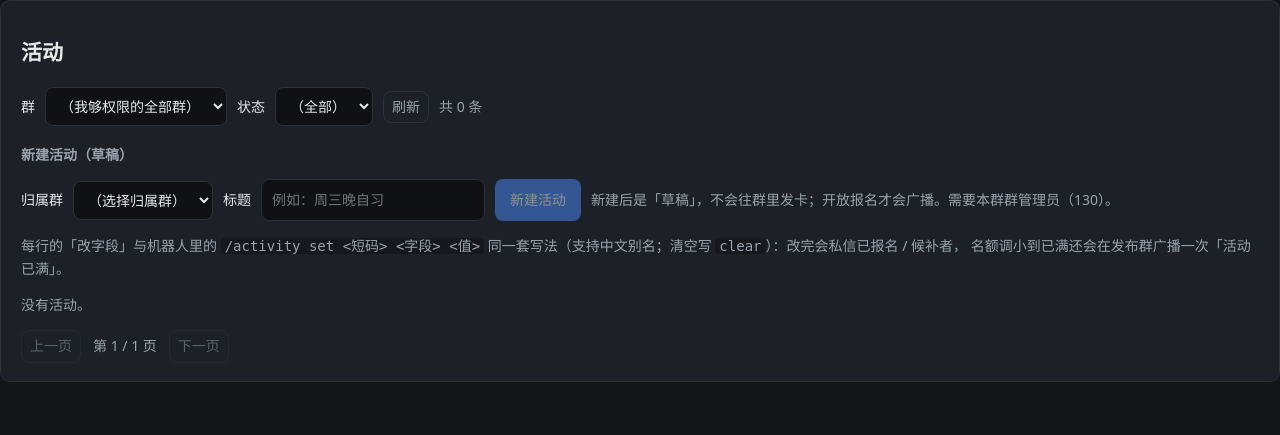
ActivitiesView › 新建活动：标题为空时按钮禁用；点一下发的是草稿请求（POST /api/activities）
Expected: the button "新建活动" is disabled, [495,179,581,221]
Select "50001" in the dropdown with id "activity-new-group". click: (143, 200)
box: [73,180,213,220]
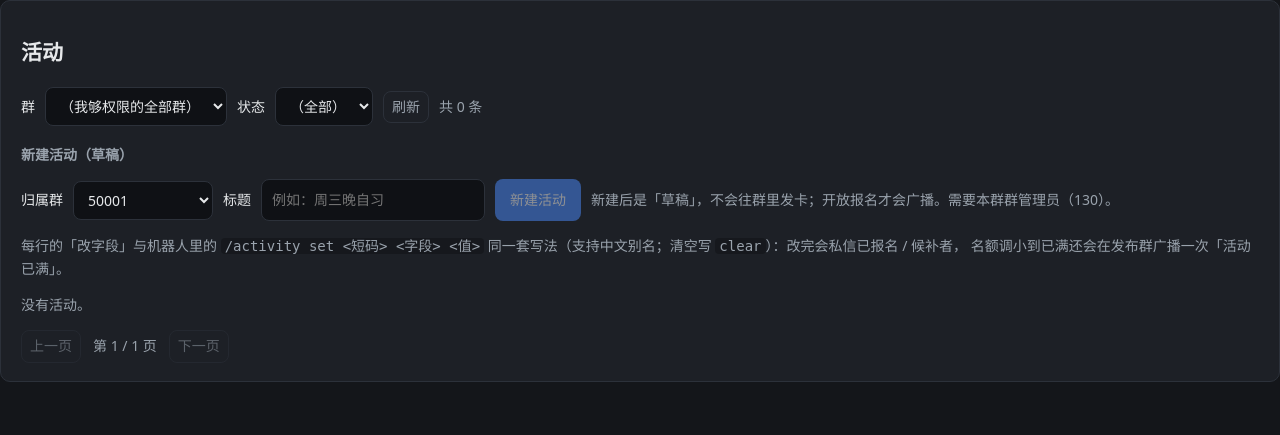
Expected: the button "新建活动" is disabled, [495,179,581,221]
Type "周三晚自习" into the field with id "activity-new-title". click: (373, 200)
box: [261,179,485,221]
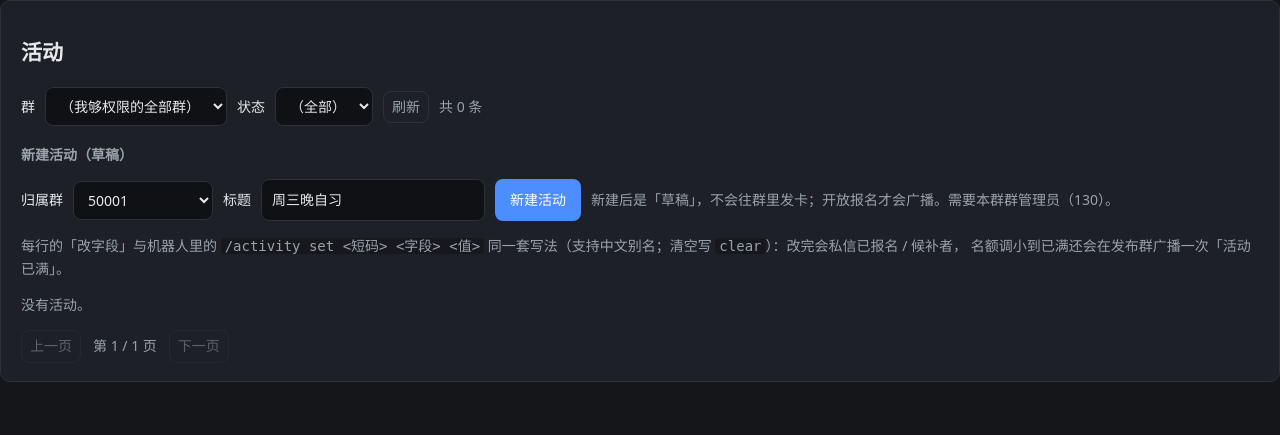
Expected: the button "新建活动" is enabled
Click the button "新建活动". click: (538, 200)
box: [495,179,581,221]
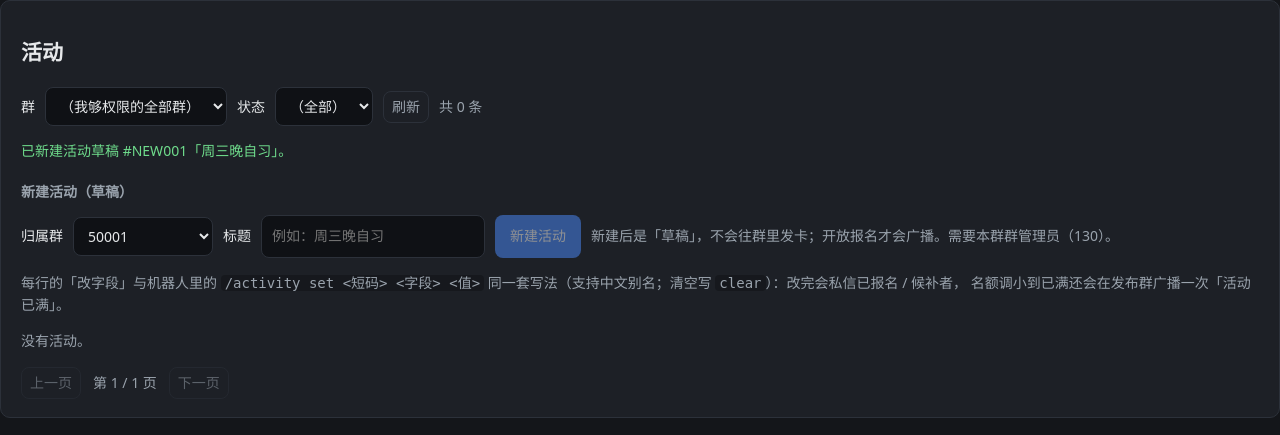
Expected: the text "已新建活动草稿 #NEW001「周三晚自习」。" is shown, [21,141,292,160]
